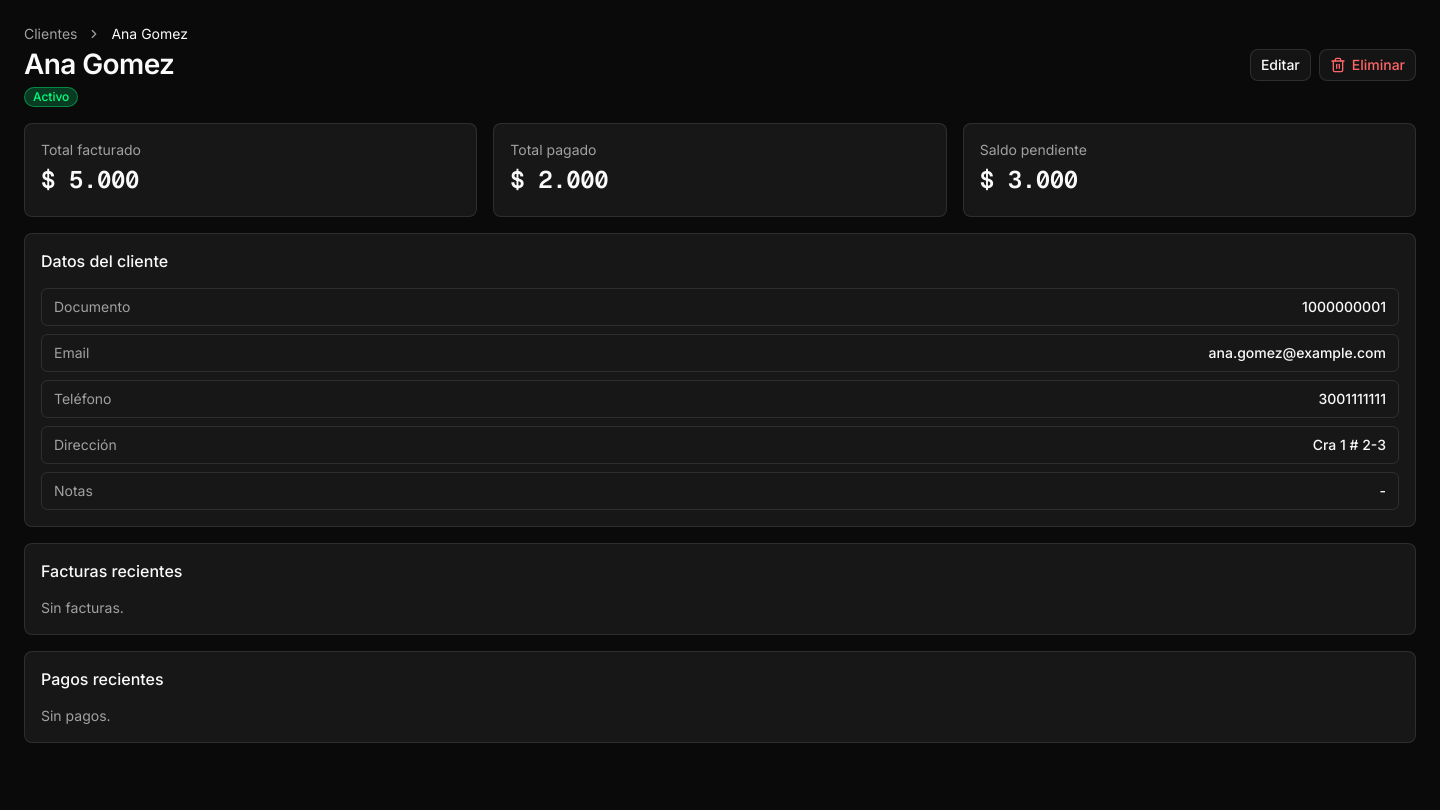
Scenario: CustomerDetailPage › opens the edit dialog pre-filled with this customer's data when the header 'Editar' action is clicked (no navigation)
Click the button "Editar": (1280, 65) left=1250, top=49, right=1311, bottom=81
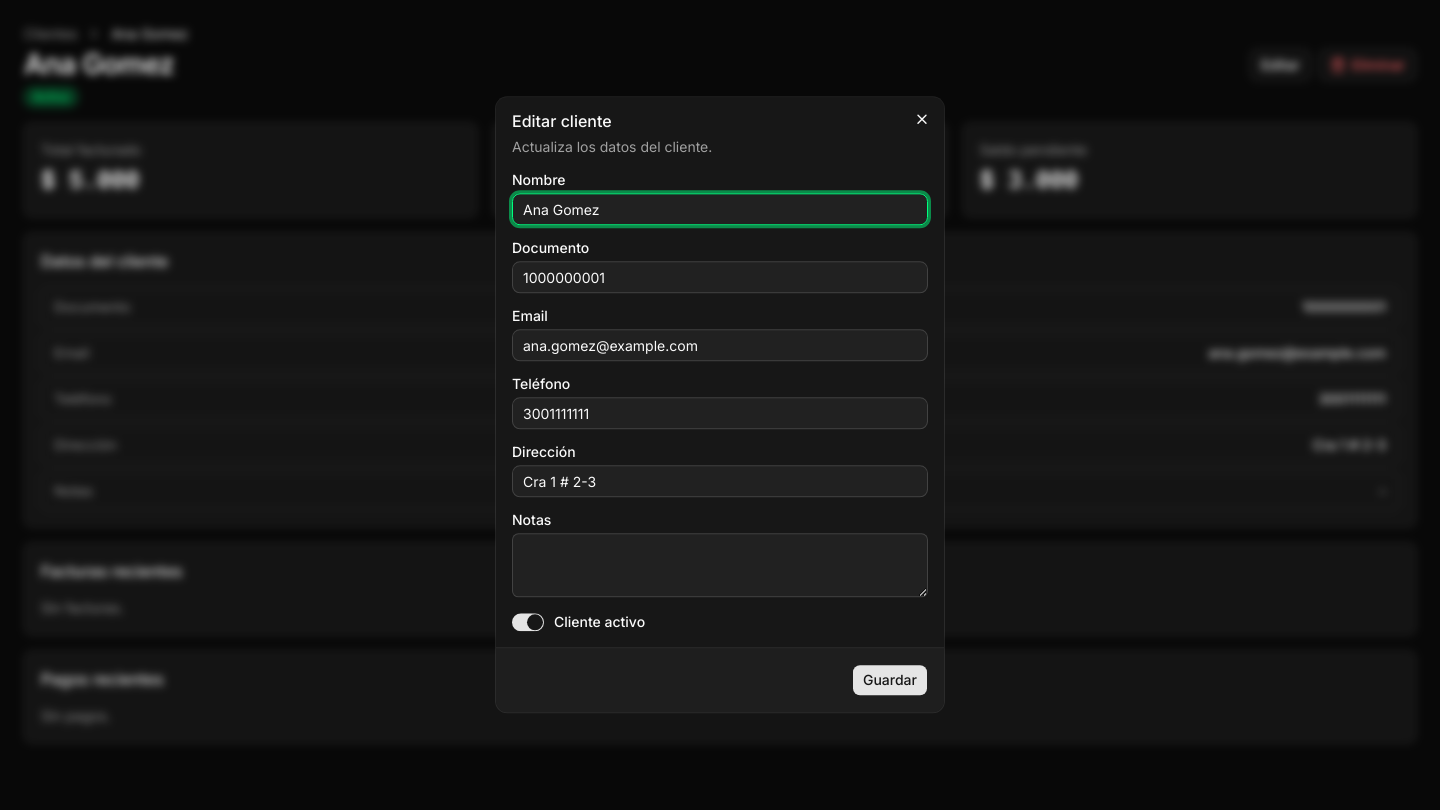
Expected: the dialog is shown, left=496, top=97, right=944, bottom=713
Expected: the field showing "Ana Gomez" is shown, left=512, top=193, right=928, bottom=225
Expected: the field showing "1000000001" is shown, left=512, top=261, right=928, bottom=293
